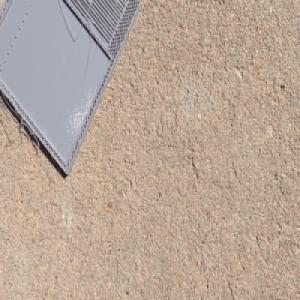PlasticPart: (0, 0, 142, 177)
